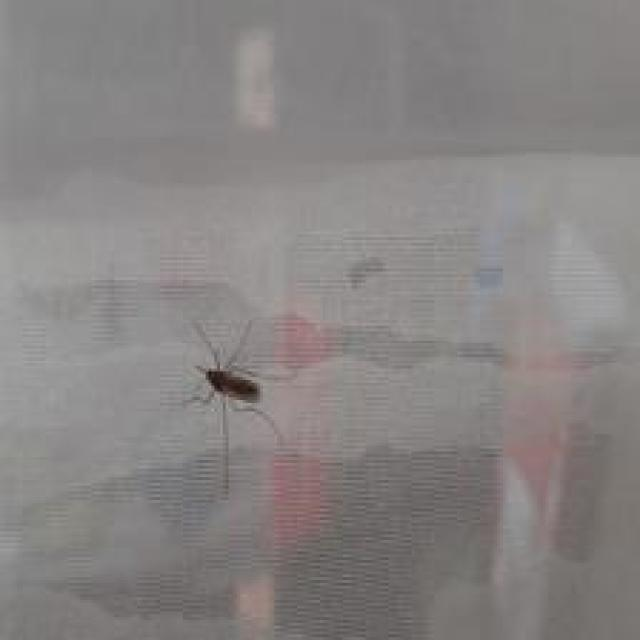Culex: (179, 314, 290, 500)
